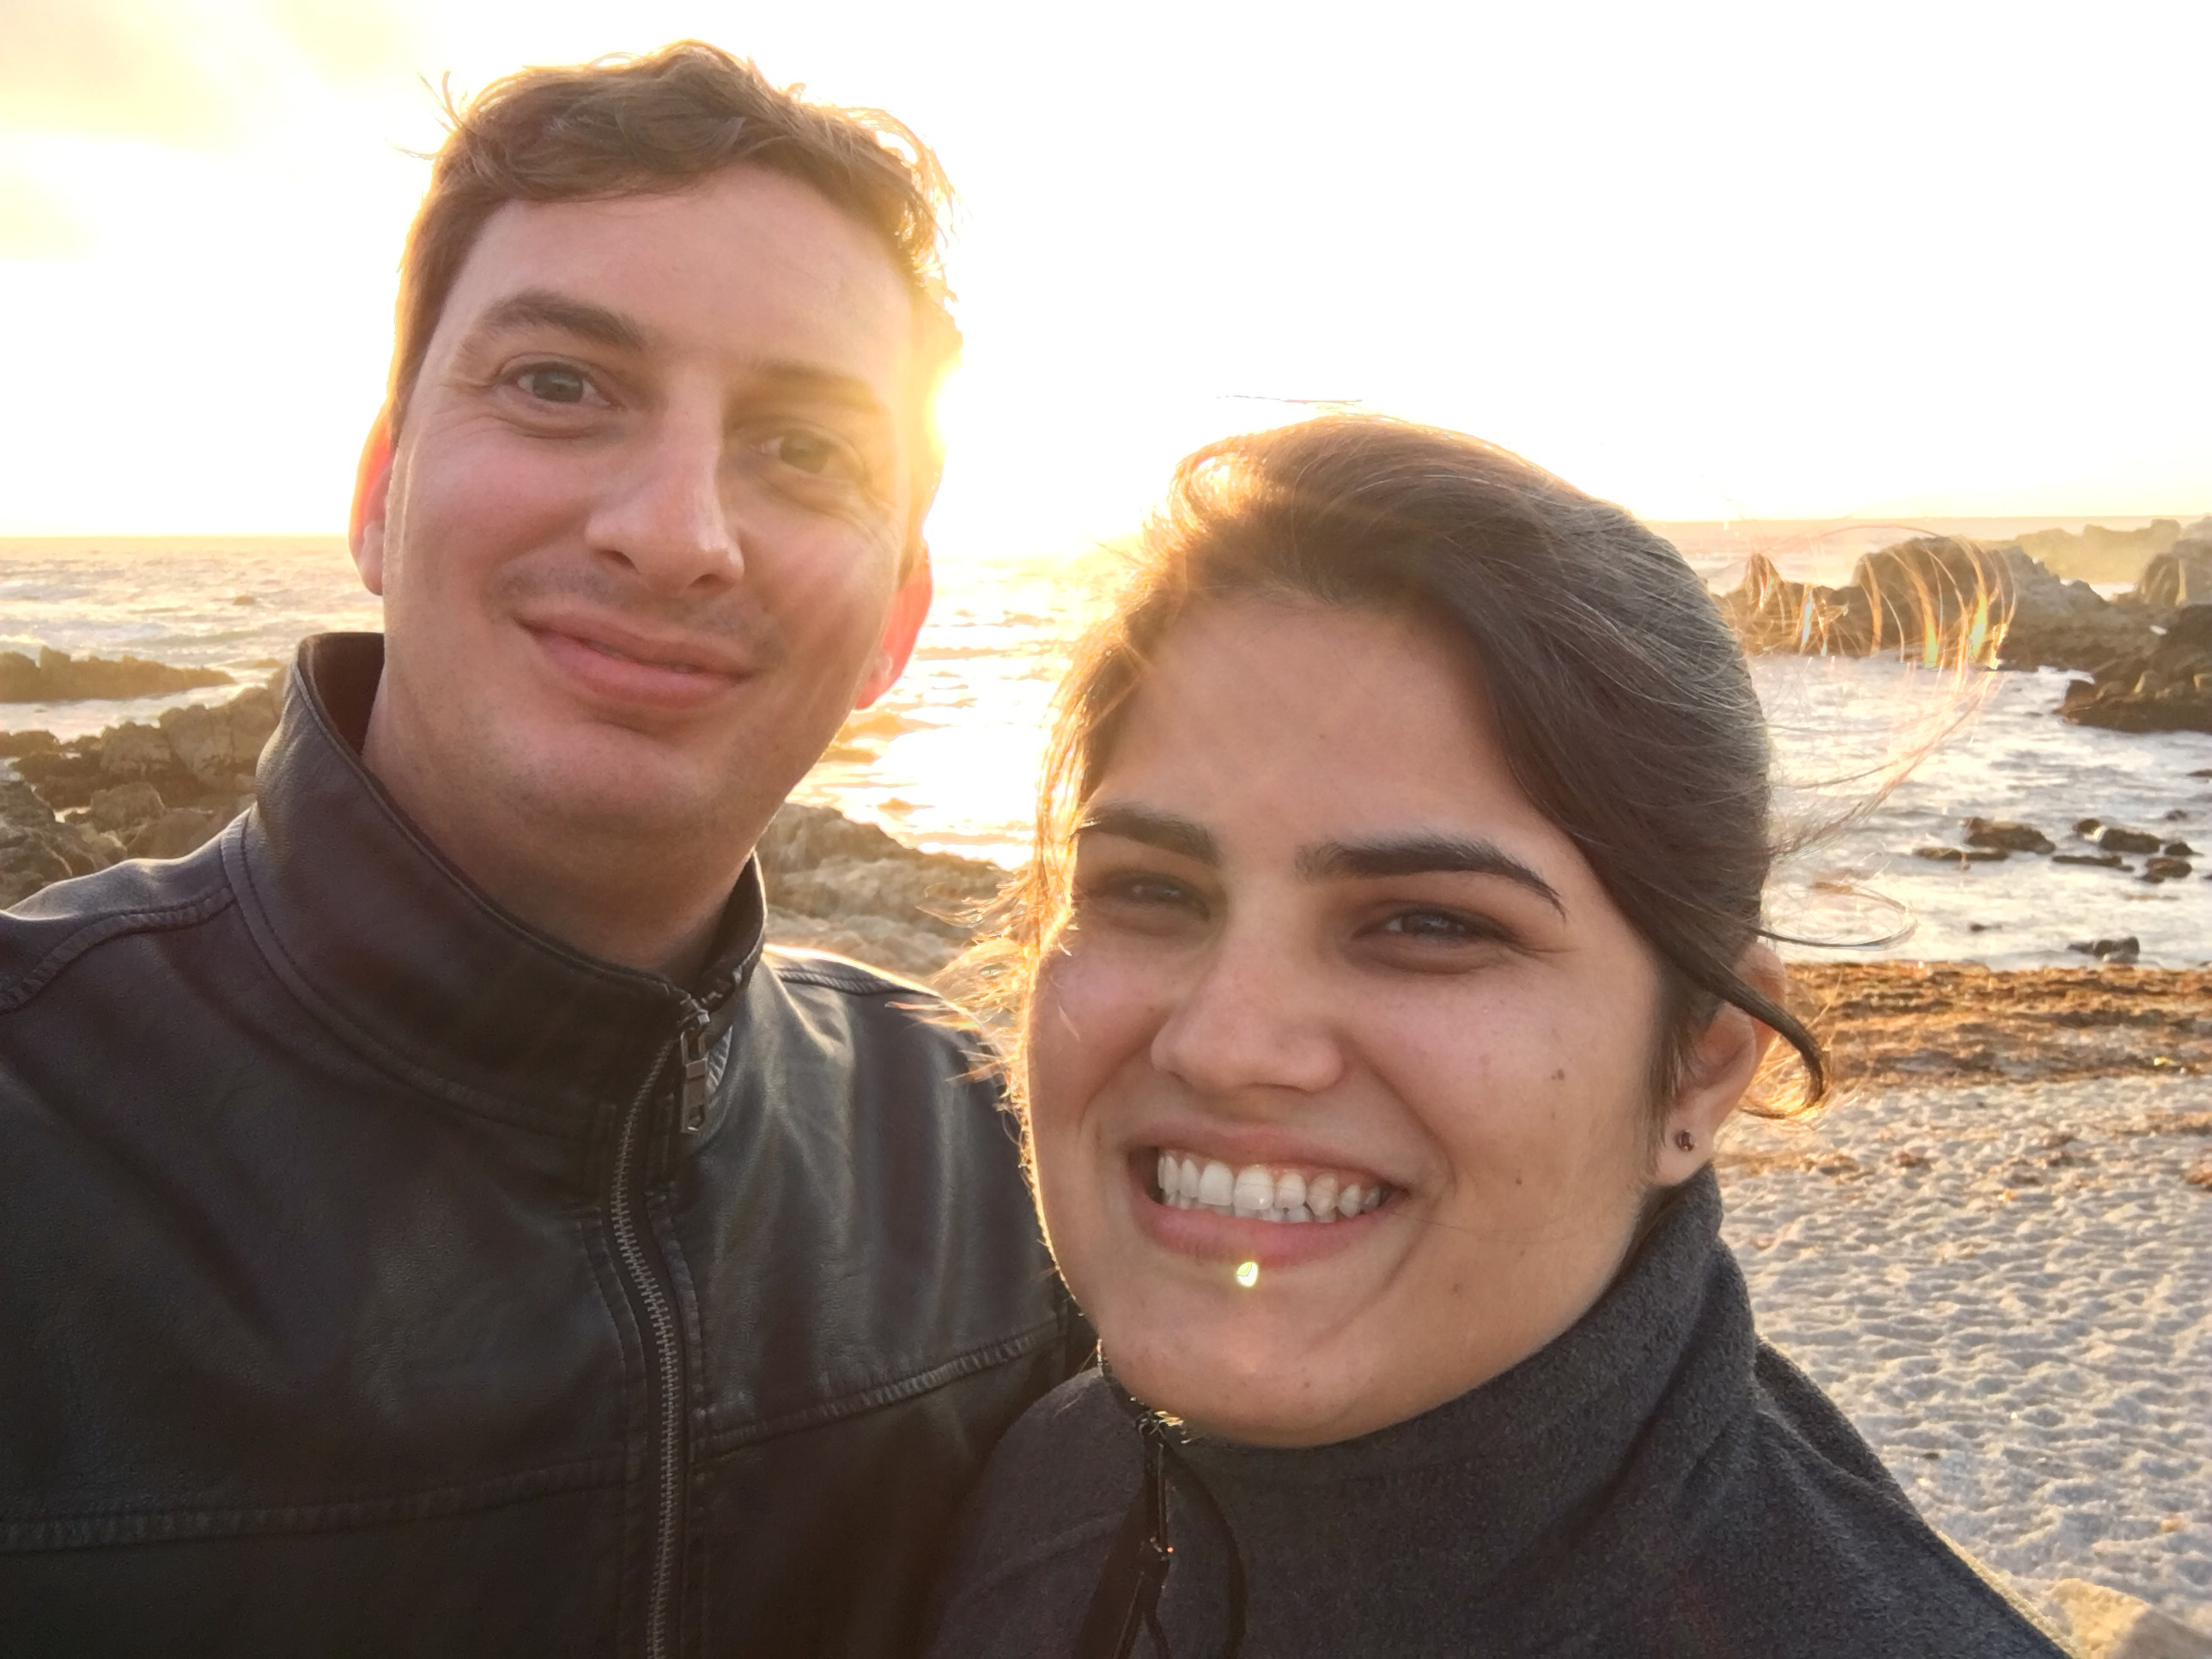flare: (1235, 1260, 1259, 1290)
